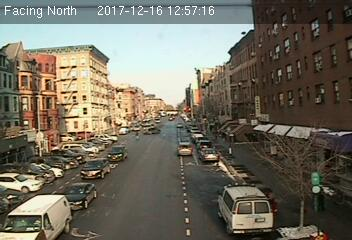car: (61, 182, 98, 211), (80, 157, 111, 181), (108, 144, 129, 163), (200, 147, 220, 164), (176, 141, 193, 157)
police: (218, 179, 273, 234)
